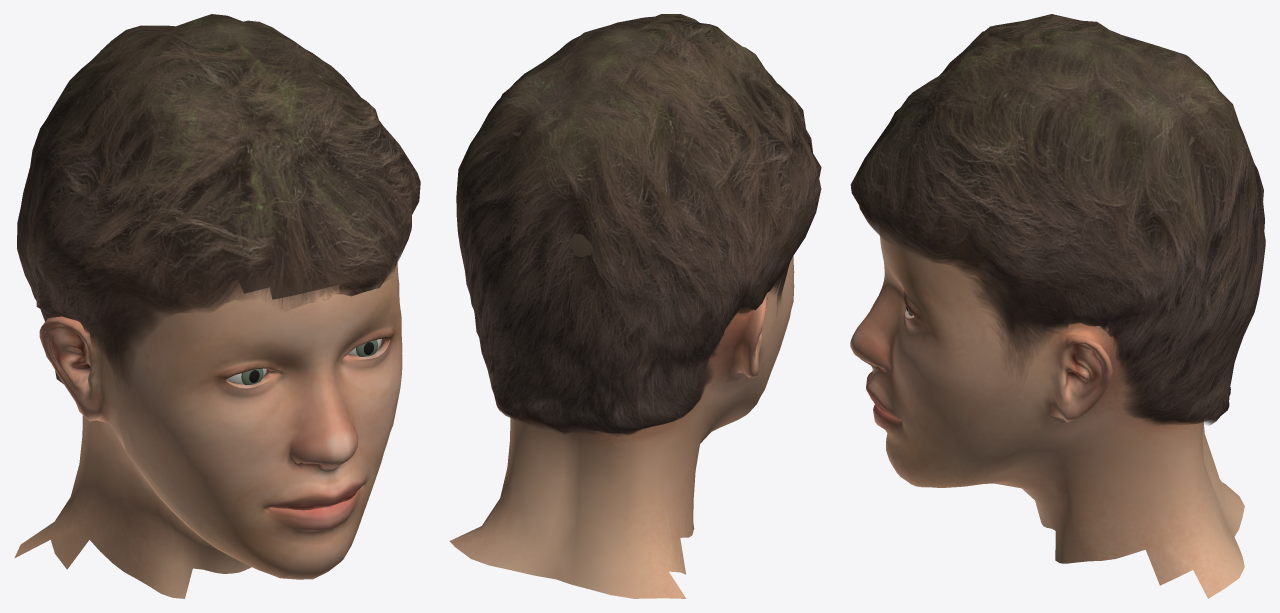
File: room-head.glb
3 renders of one model, left to right at view 1: azimuth 30°, elevation 25°; view 2: azimuth 150°, elevation 25°; view 3: azimuth 270°, elevation 25°, orthographic. The views are drawn at different scales.
Parts seen in each view (by area): view 1: hair, head, scalp; view 2: hair, head; view 3: hair, head.
Boxes of the visible parts, box(x1,y1,x2,y2) form: hair: box(17, 14, 420, 387); head: box(14, 262, 402, 598); scalp: box(240, 278, 338, 299); hair: box(456, 14, 821, 436); head: box(449, 256, 794, 598); hair: box(850, 14, 1265, 425); head: box(850, 230, 1244, 598).
Size of the model in its own units: 3.06 by 4.63 by 3.49.
Materials: 9 (2 with a texture image).
